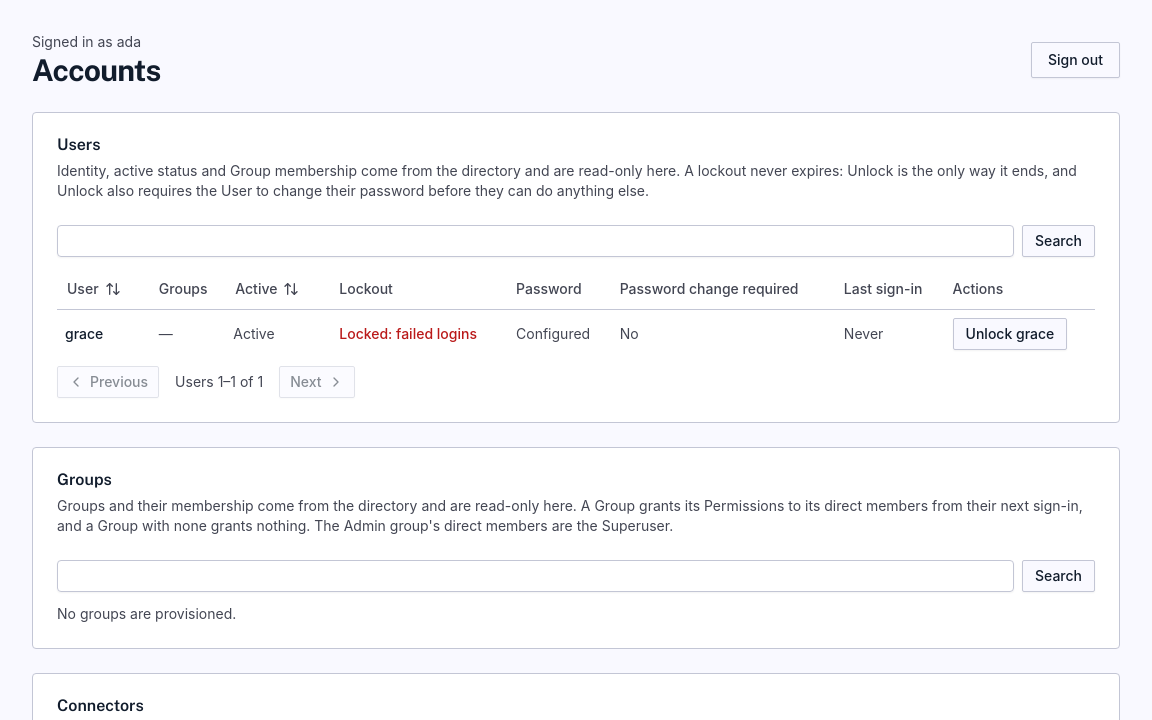
Scenario: Accounts › reports an action answered with a row that does not decode, and keeps the row
Click the button "Unlock grace".
click(1010, 334)  # box [953,318,1067,350]
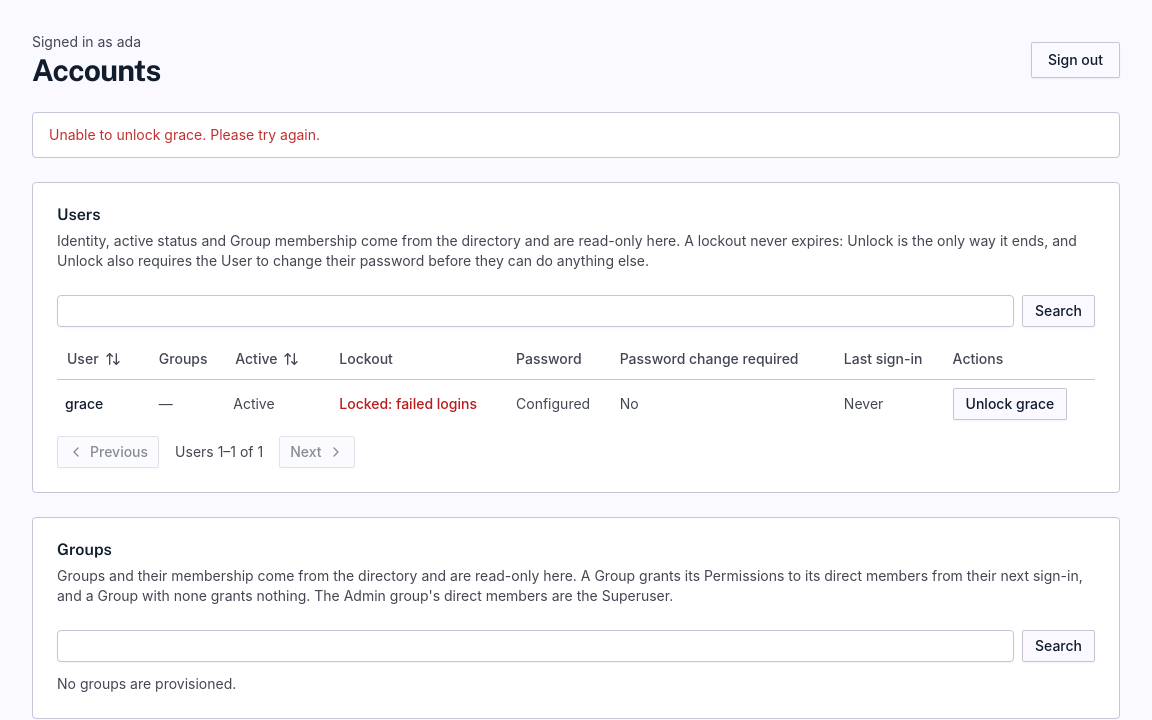
expect the text "Locked: failed logins" is shown: met, box [339,394,477,412]
expect the message reads "Unable to unlock grace. Please try again.": met, box [49,126,320,143]
